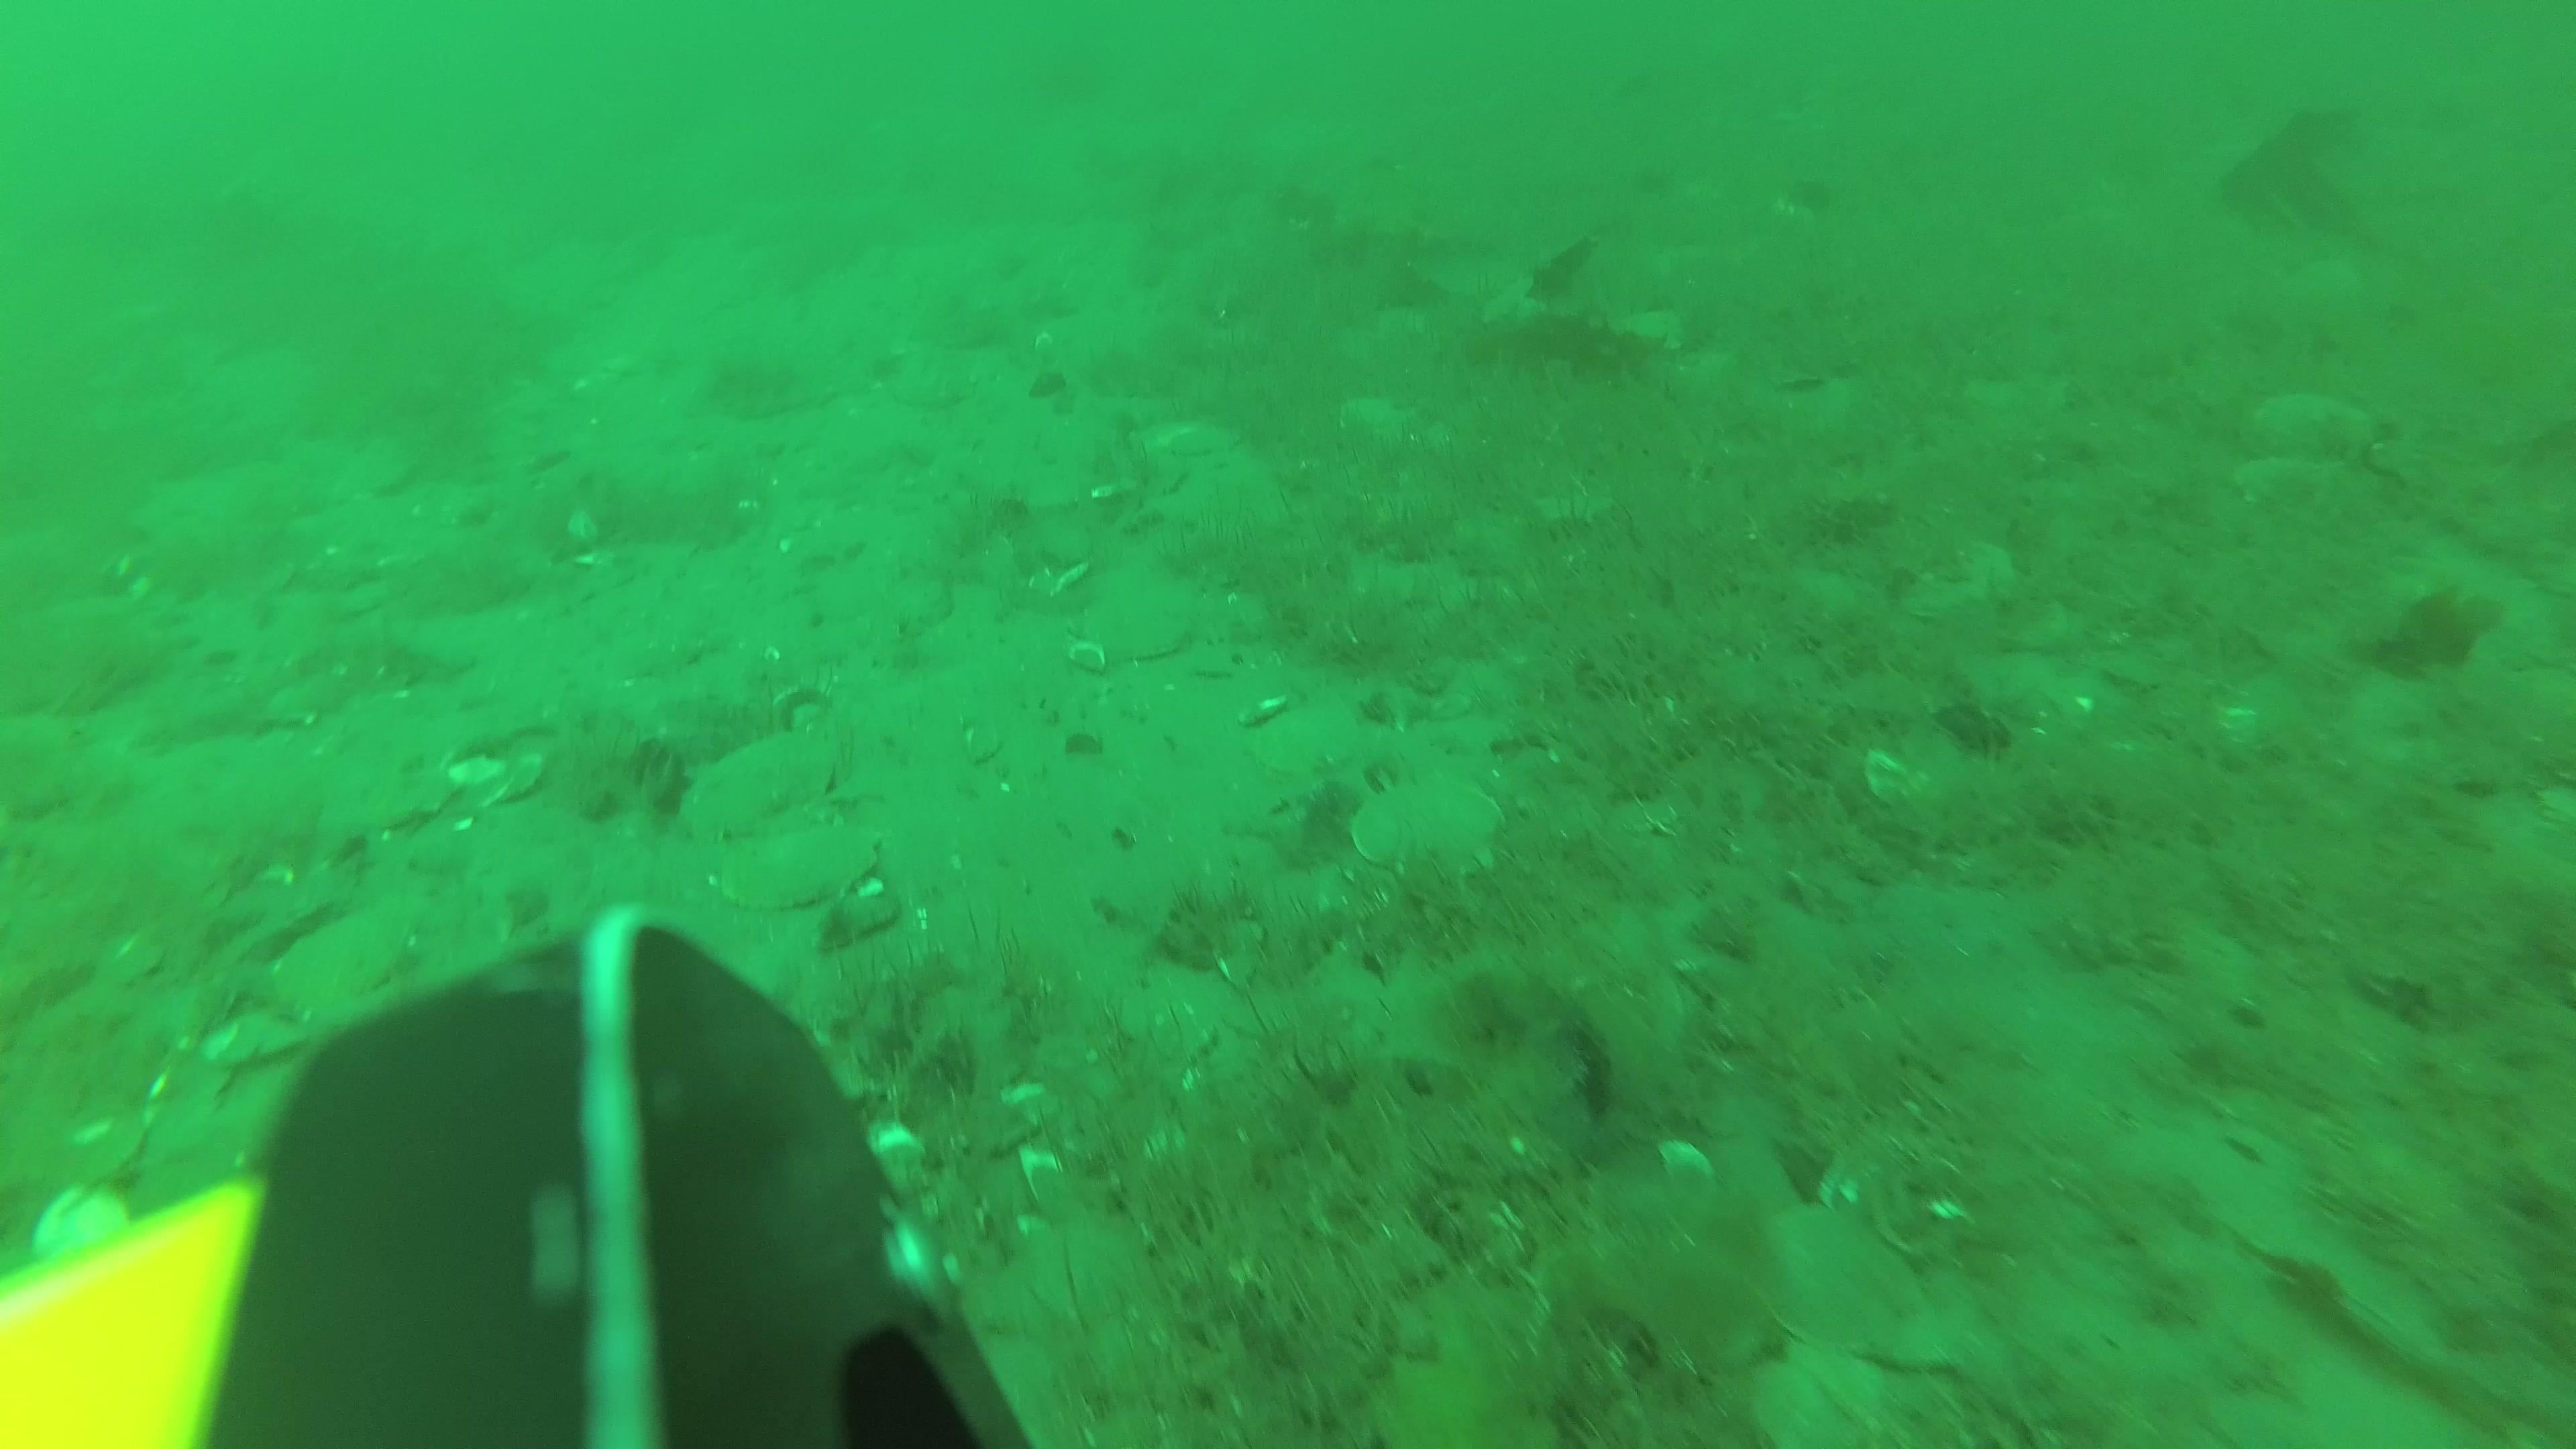scallop: (1757, 1196, 1927, 1343), (681, 718, 839, 840), (1355, 777, 1500, 888), (713, 816, 885, 909), (1748, 1352, 1902, 1449), (1069, 586, 1191, 667), (2258, 384, 2371, 458), (2235, 453, 2351, 520), (1909, 543, 2013, 617), (1261, 706, 1355, 777)
